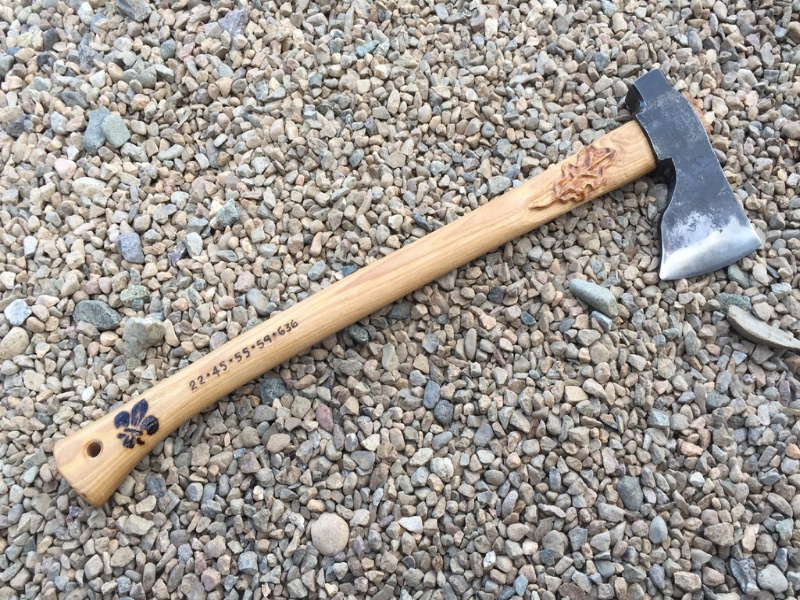axe: (539, 66, 773, 284)
